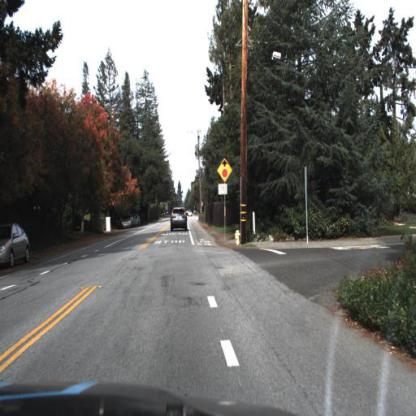car: (1, 220, 32, 272), (170, 205, 192, 236), (119, 210, 136, 233)
